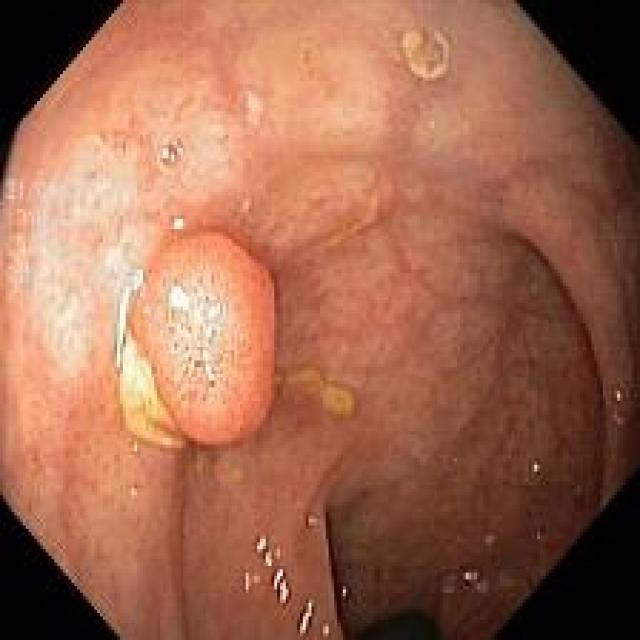Polyps: (116, 233, 276, 447)
